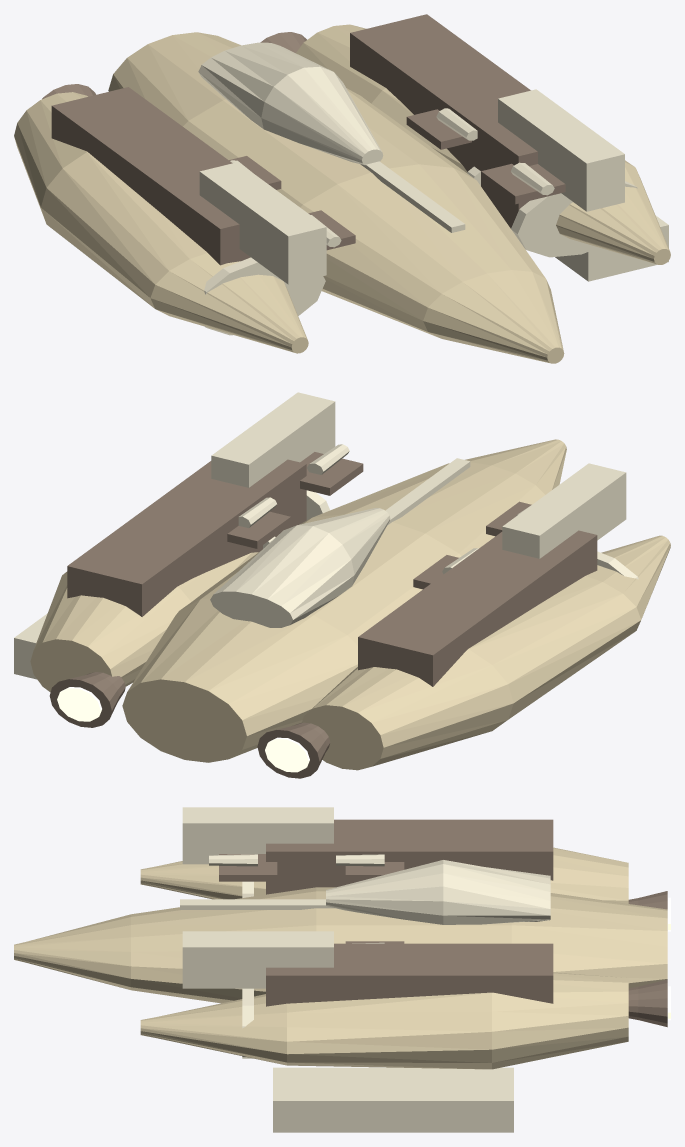
3 views of the same model, one above another, from view 1: azimuth 30°, elevation 25°; view 2: azimuth 150°, elevation 25°; view 3: azimuth 270°, elevation 25° (orthographic). The views are drawn at different scales.
Bounding box in the file's own units: 13.28 × 4.62 × 17.38.
